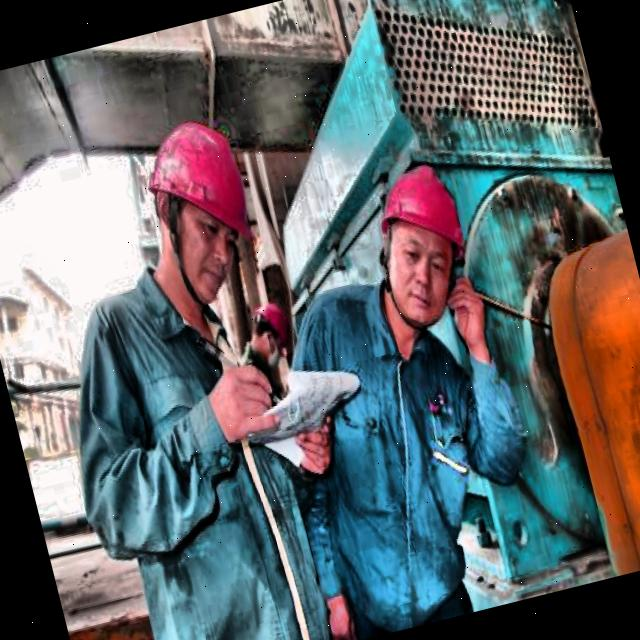helmet: (121, 96, 287, 323), (358, 146, 493, 337), (250, 296, 300, 358)
